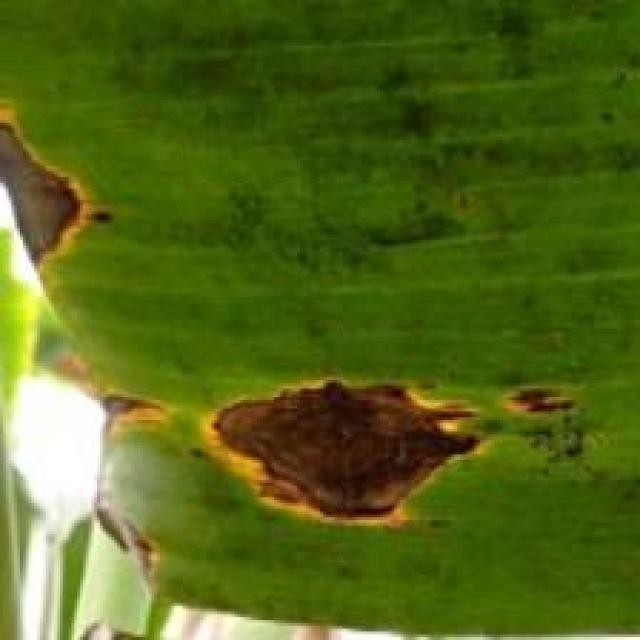Bacterial_spot: (199, 338, 489, 563), (41, 329, 186, 570), (0, 109, 124, 278), (500, 337, 598, 504)
